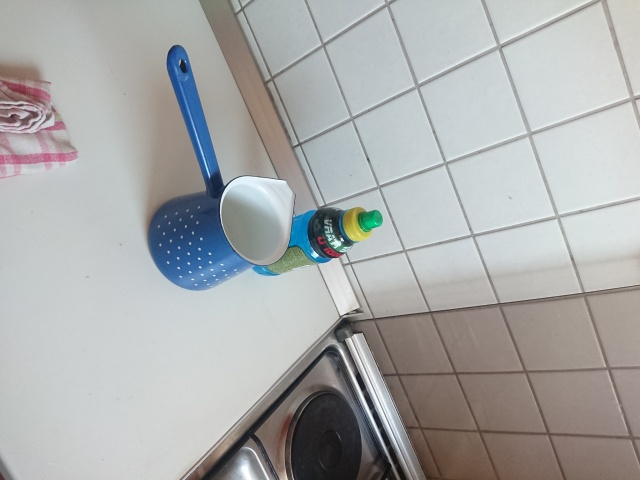Vindi Iso Sport Forest Strawberries 500mL: (248, 206, 384, 277)
